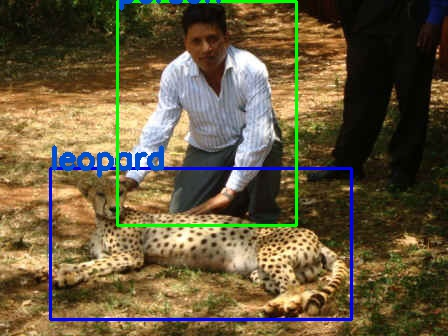leopard: (50, 167, 351, 318)
person: (117, 1, 296, 225)
